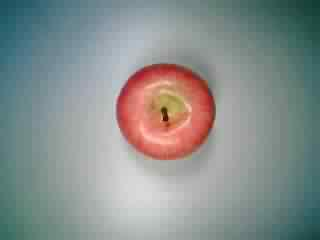apple: (114, 60, 218, 161)
